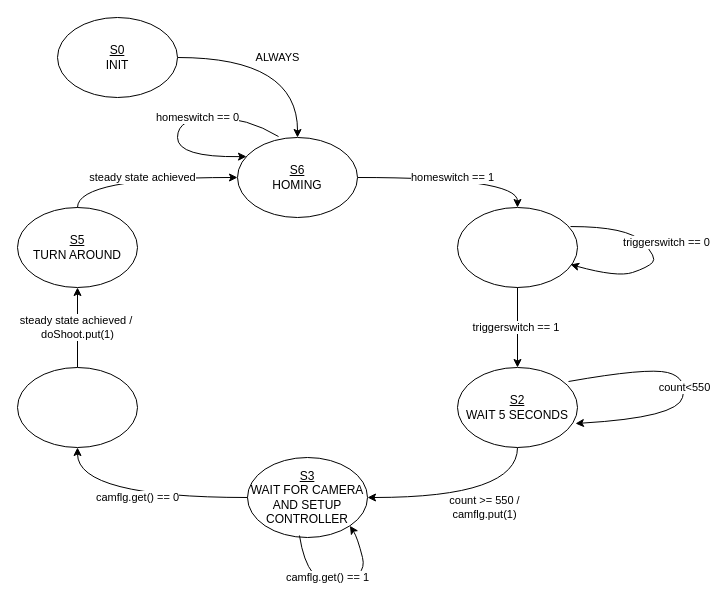
Some shapes in this 728 by 601 pixel diagram are drawn without their labels. Each missing label, with the centre of its shape:
S1 WAIT FOR BUTTON: point 517,247
S4 LOOK AT TARGET: point 77,407
